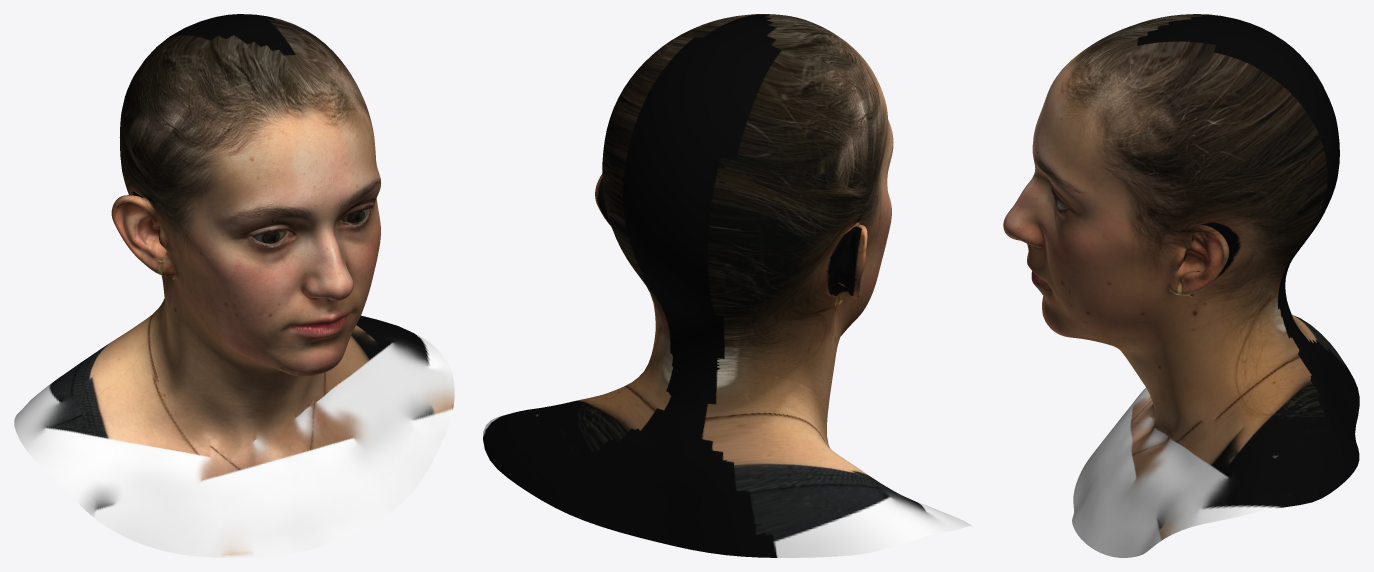
Rendered from guide-model.glb.
3 renders of one model, left to right at view 1: azimuth 30°, elevation 25°; view 2: azimuth 150°, elevation 25°; view 3: azimuth 270°, elevation 25°, orthographic. The views are drawn at different scales.
Parts seen in each view (by area): view 1: mesh; view 2: mesh; view 3: mesh.
Part boxes in pixels (x1=…): mesh: x1=14, y1=14, x2=454, y2=557; mesh: x1=483, y1=14, x2=971, y2=557; mesh: x1=1003, y1=14, x2=1359, y2=557.
Size of the model in its own units: 3.18 by 3.53 by 2.34.
4 materials, 4 textured.
